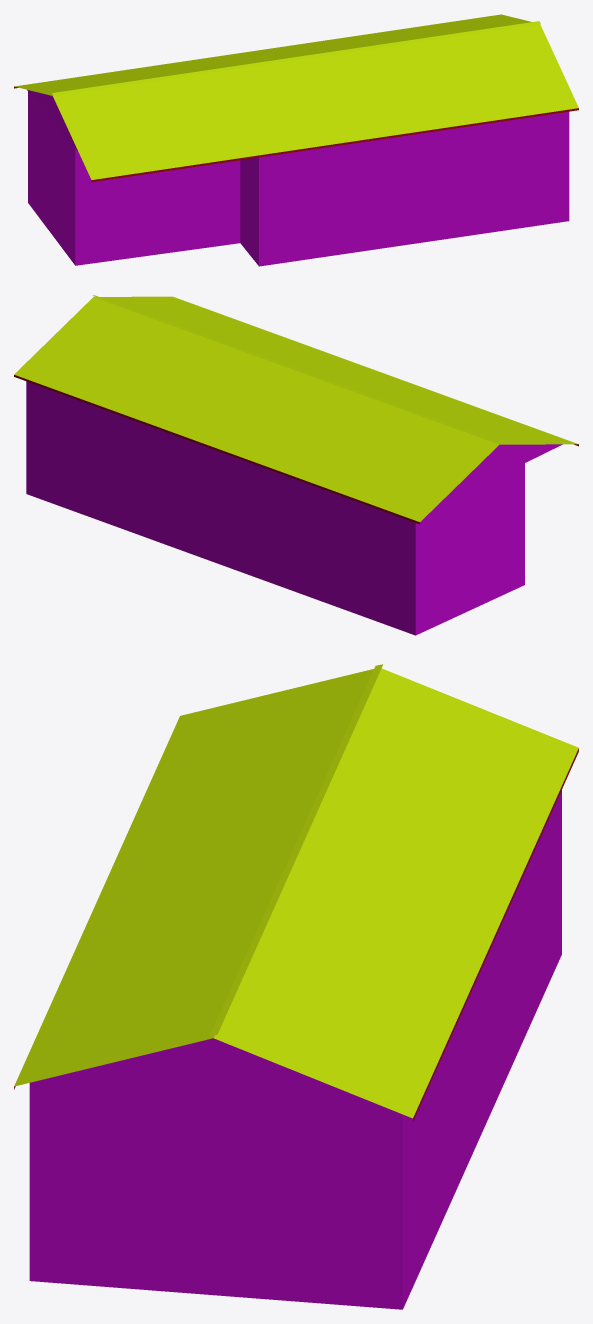
The model's file is lct_26.glb.
3 views of the same model, one above another, from view 1: azimuth 30°, elevation 25°; view 2: azimuth 150°, elevation 25°; view 3: azimuth 270°, elevation 25° (orthographic). The views are drawn at different scales.
Parts seen in each view (by area): view 1: lct_26; view 2: lct_26; view 3: lct_26.
Part boxes in pixels (x1=…): lct_26: x1=14, y1=14, x2=578, y2=266; lct_26: x1=14, y1=295, x2=578, y2=635; lct_26: x1=14, y1=664, x2=578, y2=1309.
Size of the model in its own units: 28.71 by 8.87 by 17.03.
